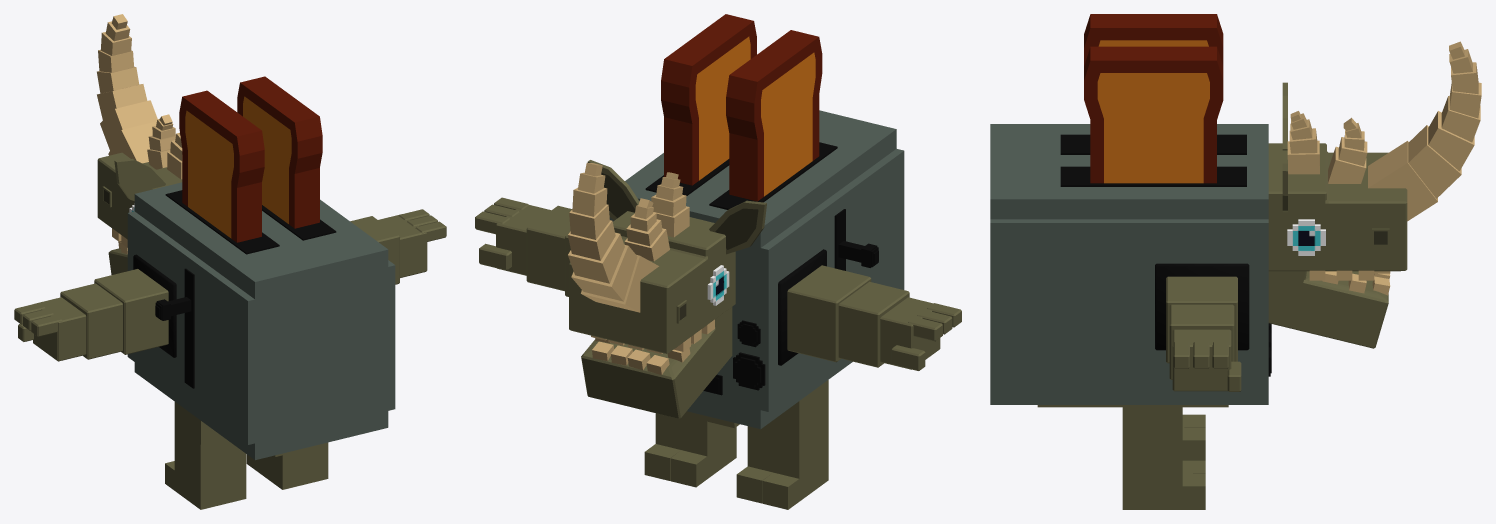
Rendered from Rhino Toasterino.obj.
3 views of the same model, side by side, from view 1: azimuth 30°, elevation 25°; view 2: azimuth 150°, elevation 25°; view 3: azimuth 270°, elevation 25° (orthographic). The views are drawn at different scales.
Visible parts, largest first — view 1: Cube1, Cube0091, Cube0021, Cube0151, Cube0031, Cube0051; view 2: Cube0091, Cube1, Cube0021, Cube0151, Cube0031, Cube0051, Cube0141, Cube0121; view 3: Cube1, Cube0091, Cube0151, Cube0031, Cube0021, Cube0051, Cube0121.
Part boxes in pixels (x1=…): Cube1: x1=127, y1=182, x2=395, y2=460; Cube0091: x1=14, y1=152, x2=446, y2=509; Cube0021: x1=179, y1=76, x2=322, y2=242; Cube0151: x1=97, y1=14, x2=182, y2=254; Cube0031: x1=185, y1=96, x2=291, y2=238; Cube0051: x1=133, y1=190, x2=336, y2=388; Cube0091: x1=475, y1=160, x2=961, y2=509; Cube1: x1=609, y1=110, x2=904, y2=429; Cube0021: x1=661, y1=14, x2=822, y2=201; Cube0151: x1=568, y1=163, x2=714, y2=375; Cube0031: x1=695, y1=36, x2=815, y2=196; Cube0051: x1=645, y1=142, x2=878, y2=395; Cube0141: x1=601, y1=172, x2=758, y2=320; Cube0121: x1=707, y1=265, x2=729, y2=305; Cube1: x1=990, y1=124, x2=1268, y2=404; Cube0091: x1=1037, y1=82, x2=1407, y2=509; Cube0151: x1=1287, y1=41, x2=1481, y2=295; Cube0031: x1=1097, y1=40, x2=1209, y2=183; Cube0021: x1=1084, y1=14, x2=1223, y2=183; Cube0051: x1=1060, y1=134, x2=1271, y2=376; Cube0121: x1=1287, y1=219, x2=1325, y2=255.
Bounding box in the file's own units: 8.34 × 7.36 × 7.5.
8 materials, 1 textured.
